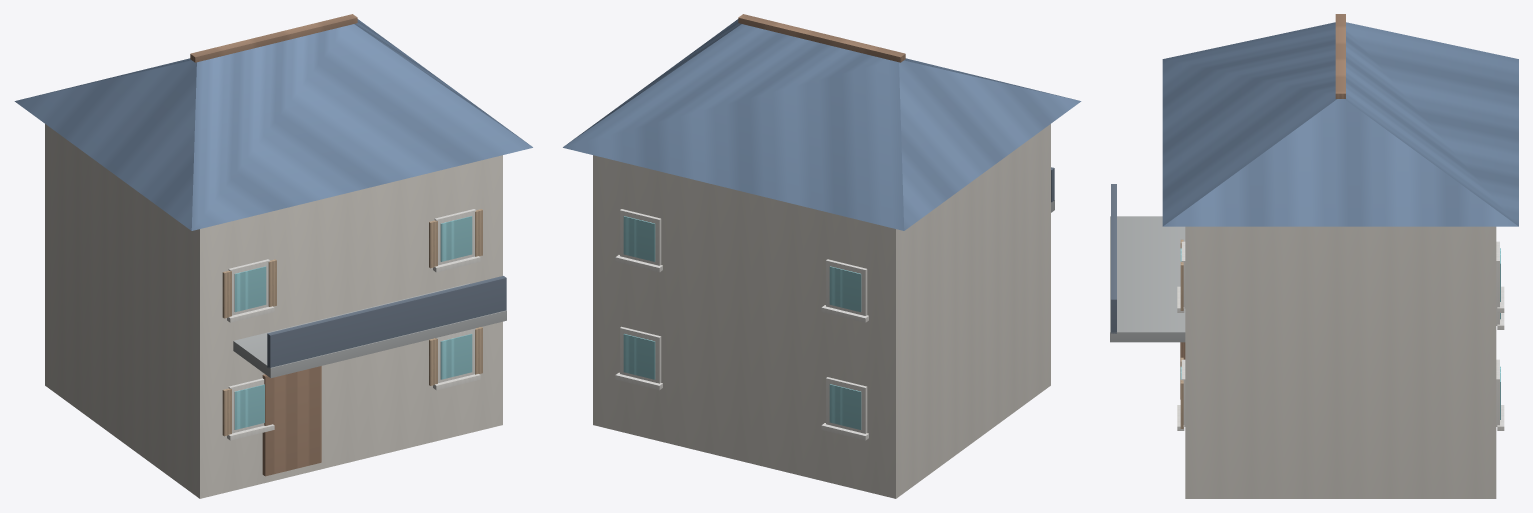
Rendered from two_storey_house.glb.
3 views of the same model, side by side, from view 1: azimuth 30°, elevation 25°; view 2: azimuth 150°, elevation 25°; view 3: azimuth 270°, elevation 25° (orthographic).
Visible parts, largest first — view 1: two_storey_house; view 2: two_storey_house; view 3: two_storey_house.
Part boxes in pixels (x1,y1,x2,y2): two_storey_house: (14,14,532,498); two_storey_house: (563,14,1081,498); two_storey_house: (1110,14,1518,498).
Size of the model in its own units: 7.9 by 8.16 by 8.15.
1 material, 1 textured.
